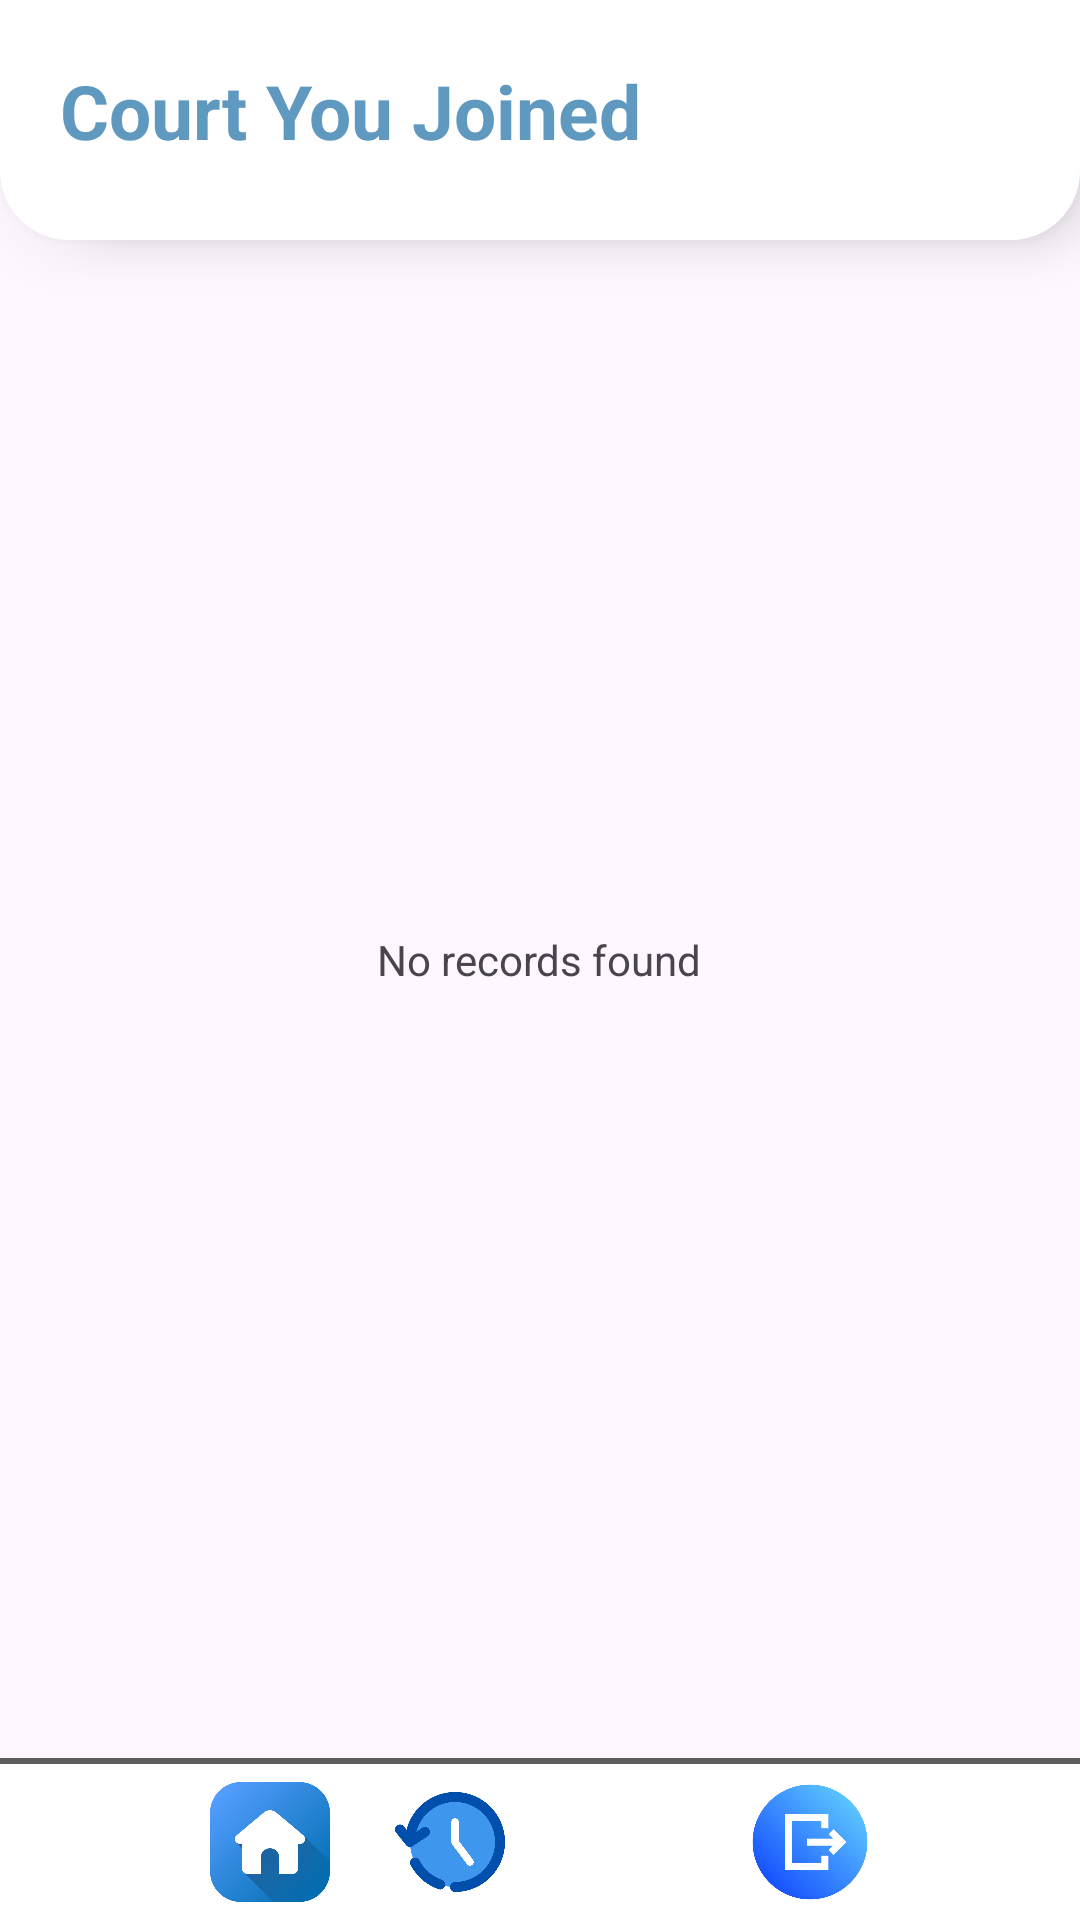

Icons on this 1080 × 1920 Android screen, each with its box as (left=x1, top=y1, right=x2, bottom=y2):
clock: (left=395, top=1792, right=505, bottom=1892)
home: (left=210, top=1782, right=330, bottom=1902)
log: (left=752, top=1784, right=868, bottom=1900)
